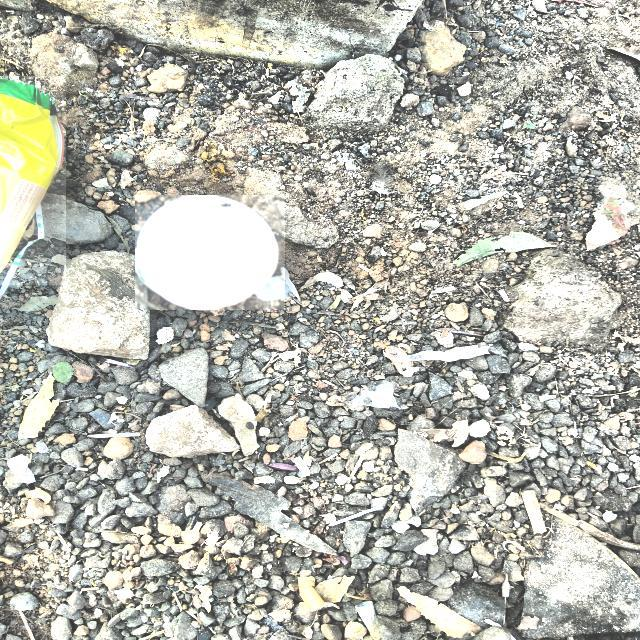anorganik: (135, 196, 284, 309), (0, 77, 66, 284)
